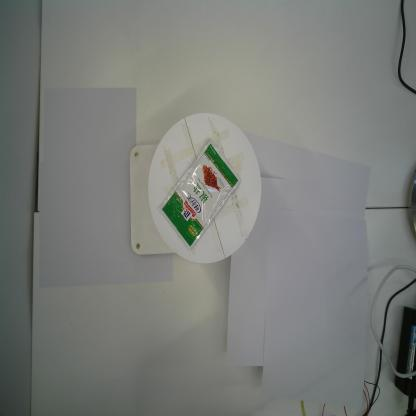Seasoner: (158, 140, 242, 252)
